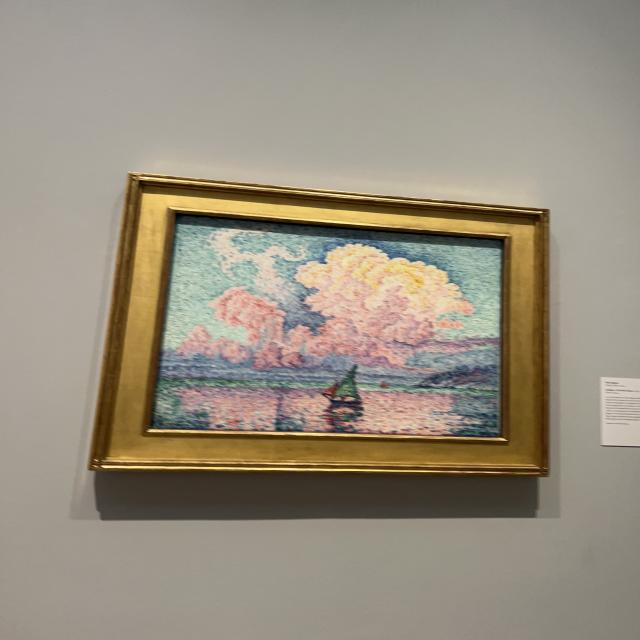sunrise: (154, 221, 497, 433)
